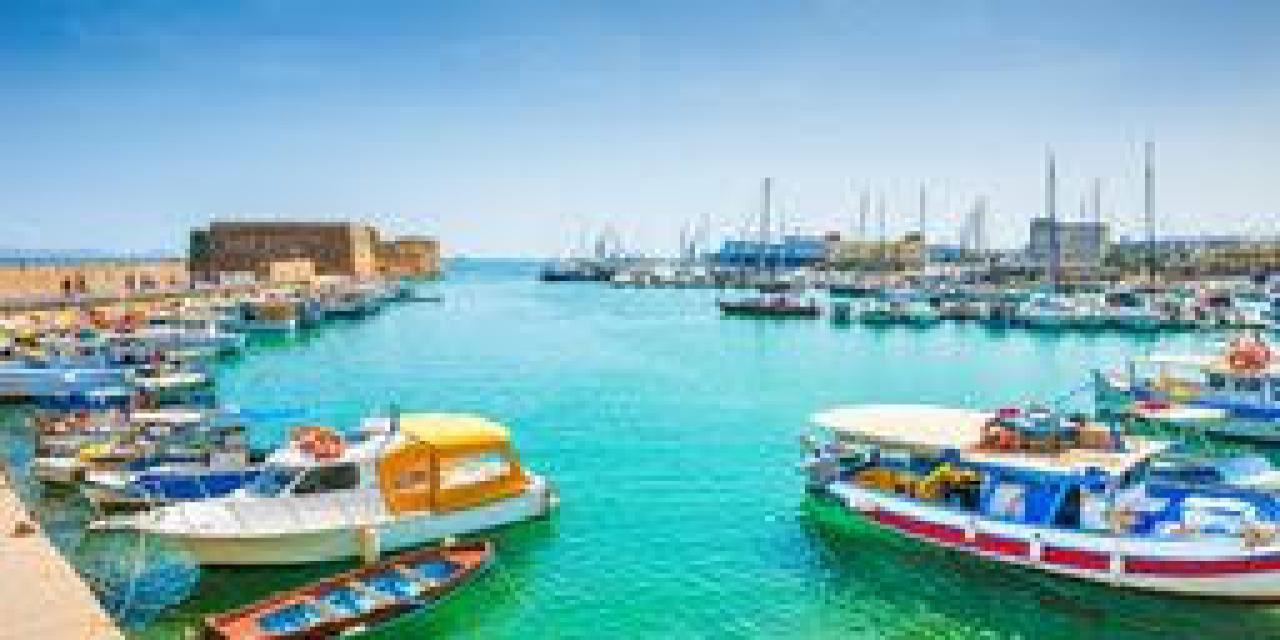Kules: (184, 217, 448, 284)
